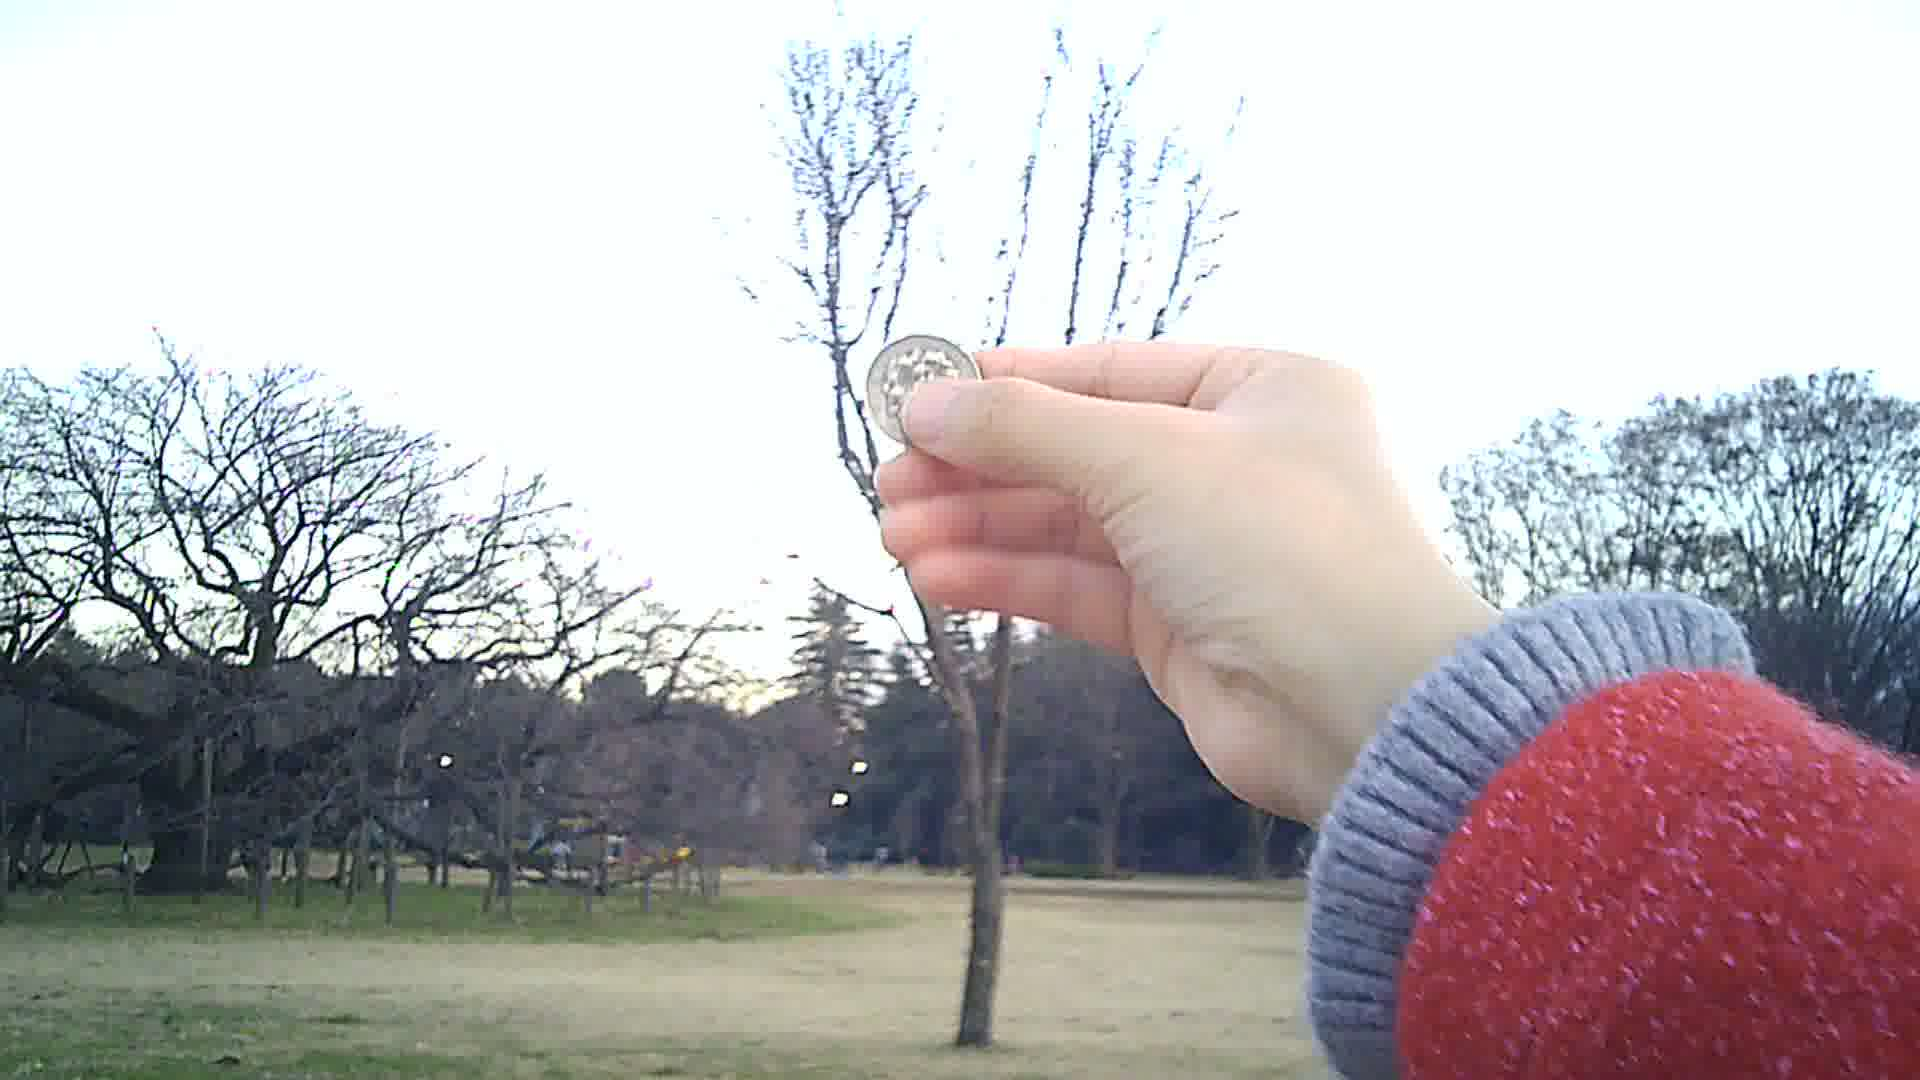100 Yen: (858, 335, 988, 451)
